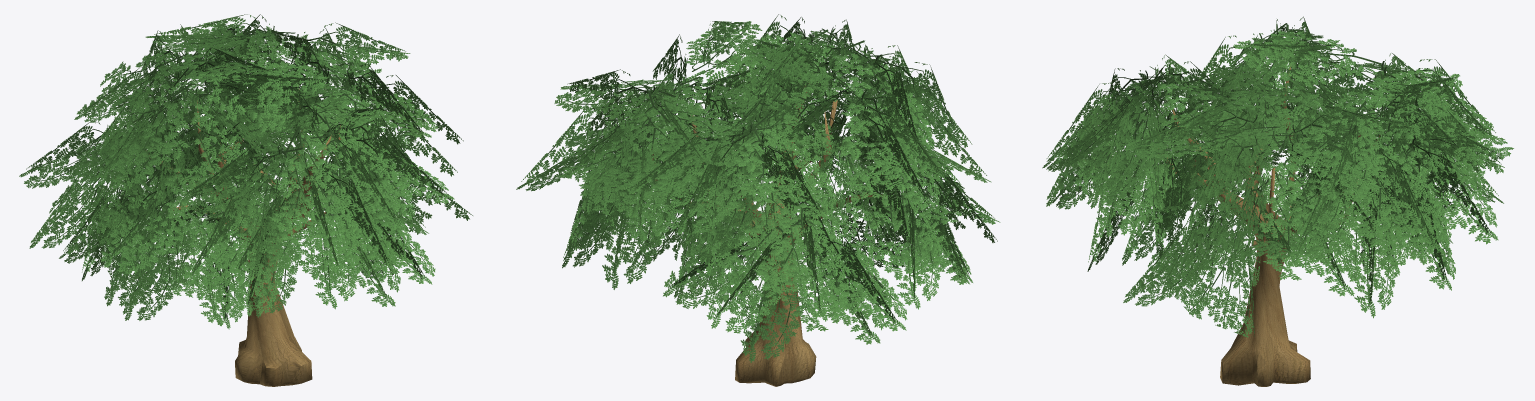
Rendered from willow.glb.
The picture shows the model from 3 angles, left to right: view 1: azimuth 30°, elevation 25°; view 2: azimuth 150°, elevation 25°; view 3: azimuth 270°, elevation 25°; orthographic projection. The views are drawn at different scales.
Visible parts, largest first — view 1: stktex_autumnLeaf_b.png__, stktex_generic_WoodB.png__; view 2: stktex_autumnLeaf_b.png__, stktex_generic_WoodB.png__; view 3: stktex_autumnLeaf_b.png__, stktex_generic_WoodB.png__.
Part boxes in pixels (<box>): stktex_autumnLeaf_b.png__: <box>19,14,472,329</box>; stktex_generic_WoodB.png__: <box>149,88,341,386</box>; stktex_autumnLeaf_b.png__: <box>516,14,1000,362</box>; stktex_generic_WoodB.png__: <box>651,83,885,386</box>; stktex_autumnLeaf_b.png__: <box>1042,16,1513,337</box>; stktex_generic_WoodB.png__: <box>1161,66,1380,386</box>.
Bounding box in the file's own units: 20.64 × 16 × 21.26.
Materials: 2 (2 with a texture image).
